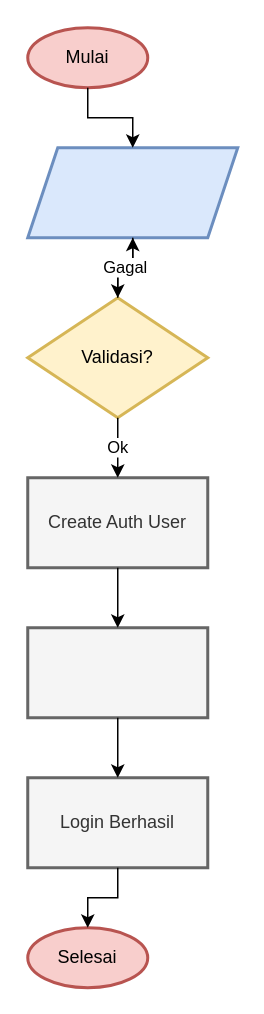
The diagram is 264 pixels wide and 1014 high, and some of its shapes have lost their labels. Each missing label, with the box of its shape:
Input Data Diri: (26, 146, 238, 238)
Simpan Profil DB: (26, 626, 208, 718)
